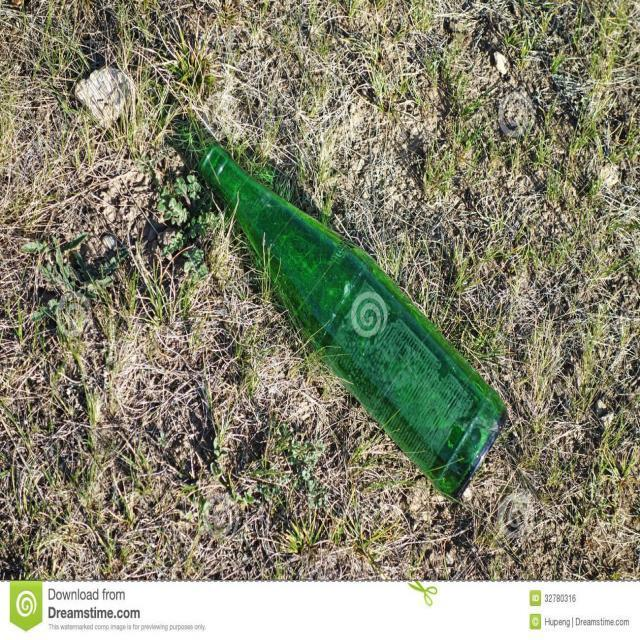glass: (172, 112, 512, 510)
